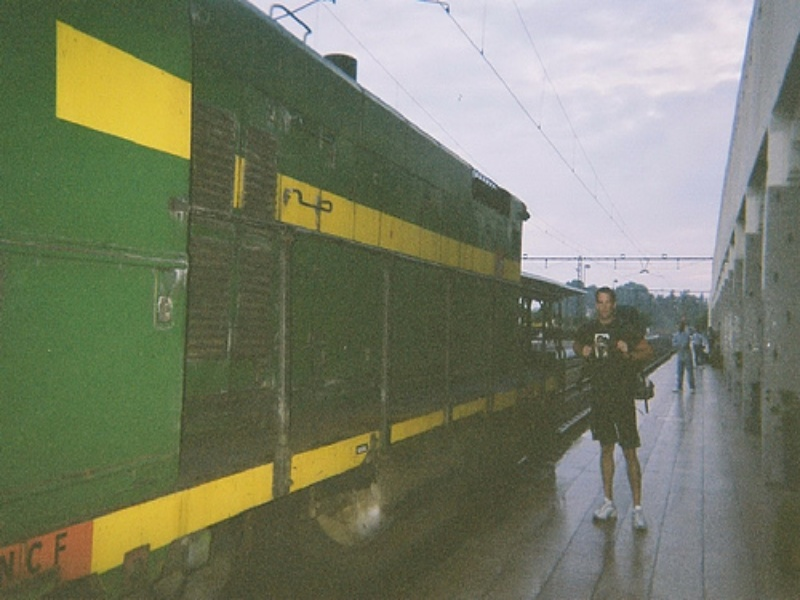person: (573, 287, 657, 530), (671, 322, 697, 393)
